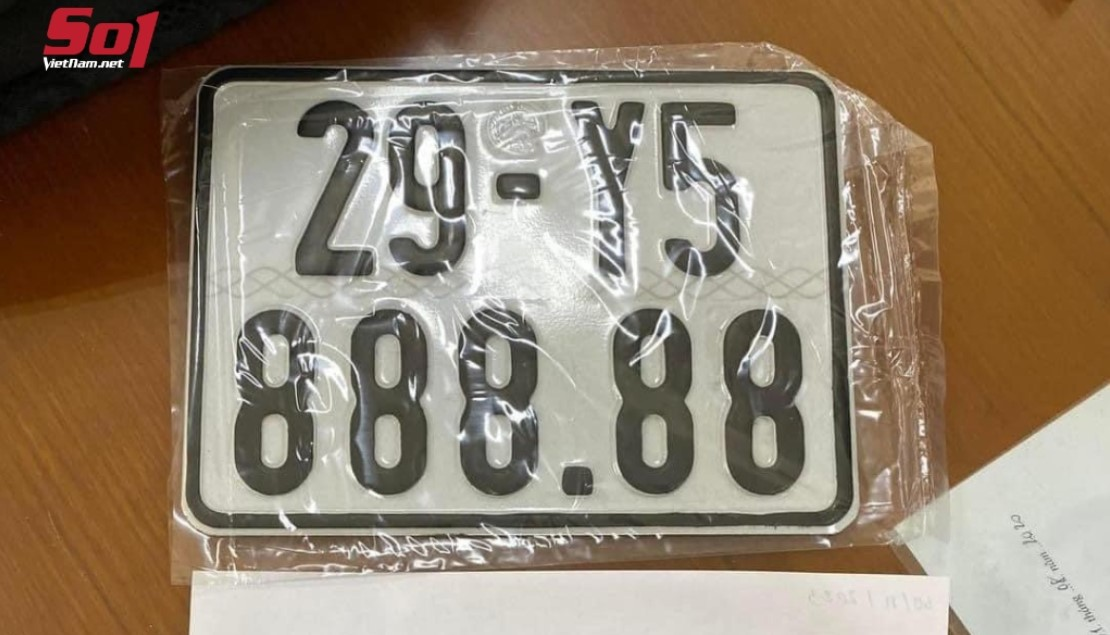bien_so: (173, 60, 876, 553)
